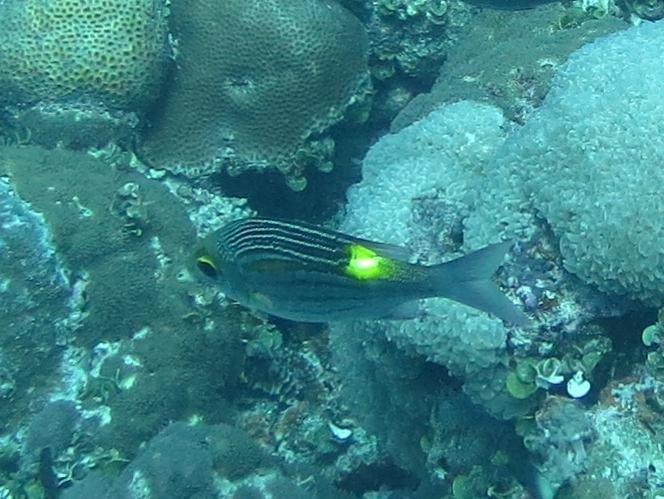Gnathodentex aureolineatus: (184, 204, 543, 335)
